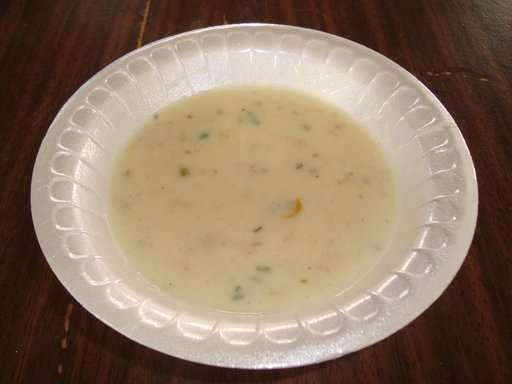soup: (50, 44, 424, 341)
